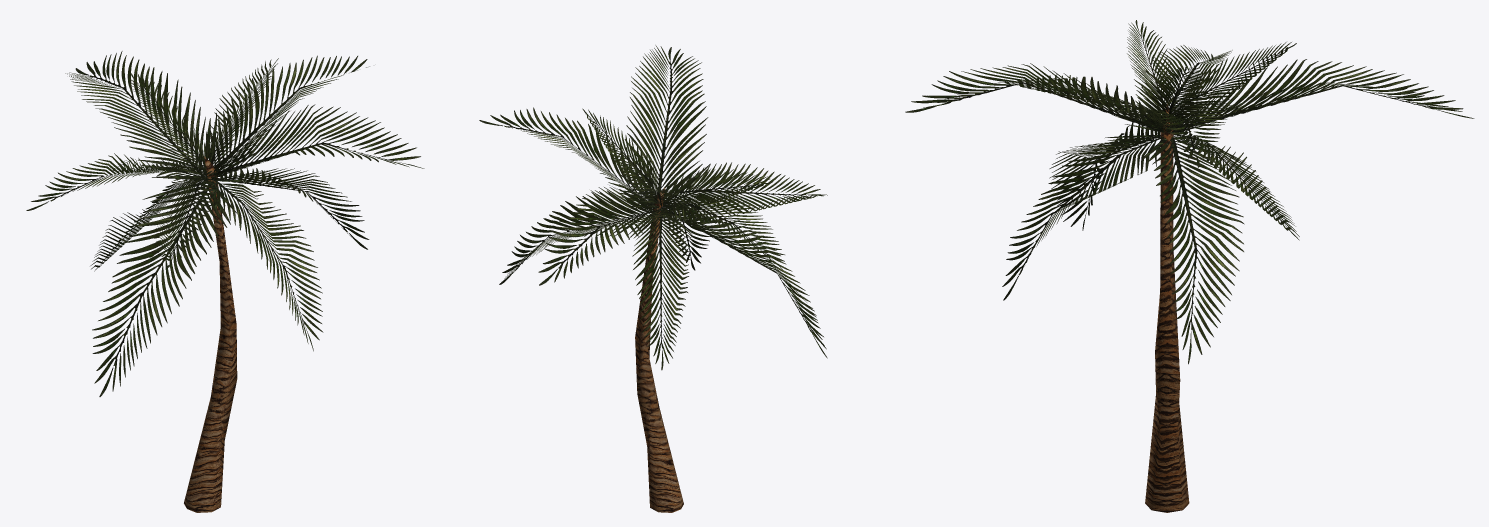
The model's file is PalmTree1.fbx.
3 renders of one model, left to right at view 1: azimuth 30°, elevation 25°; view 2: azimuth 150°, elevation 25°; view 3: azimuth 270°, elevation 25°, orthographic. The views are drawn at different scales.
Parts seen in each view (by area): view 1: Cylinder.001; view 2: Cylinder.001; view 3: Cylinder.001.
Boxes of the visible parts, x1,y1,x2,y2 form: Cylinder.001: (26, 51, 424, 512); Cylinder.001: (479, 45, 827, 512); Cylinder.001: (905, 20, 1474, 512).
Size of the model in its own units: 306 by 336 by 361.
